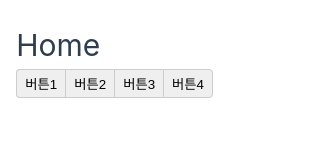
Test case: Home › button의 액션을 검사한다 › button 클릭시 해당 key로 h2의 값이 변경된다
This screenshot has width=320, height=160.
Click the button "버튼1" at (41, 84), box [16,69,65,98]
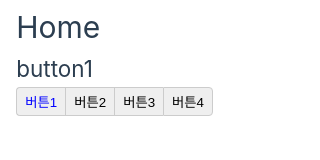
Result: the heading "button1" is shown at [16,54,93,82]
Click the button "버튼2" at (90, 102), box [65,87,114,116]
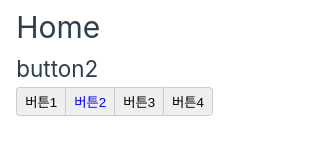
Result: the heading "button2" is shown at [16,54,98,82]
Click the button "버튼3" at (139, 102), box [114,87,163,116]
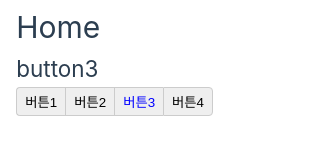
Result: the heading "button3" is shown at [16,54,99,82]
Click the button "버튼4" at (188, 102), box [163,87,213,116]
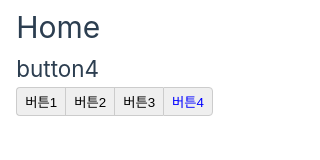
Result: the heading "button4" is shown at [16,54,99,82]
